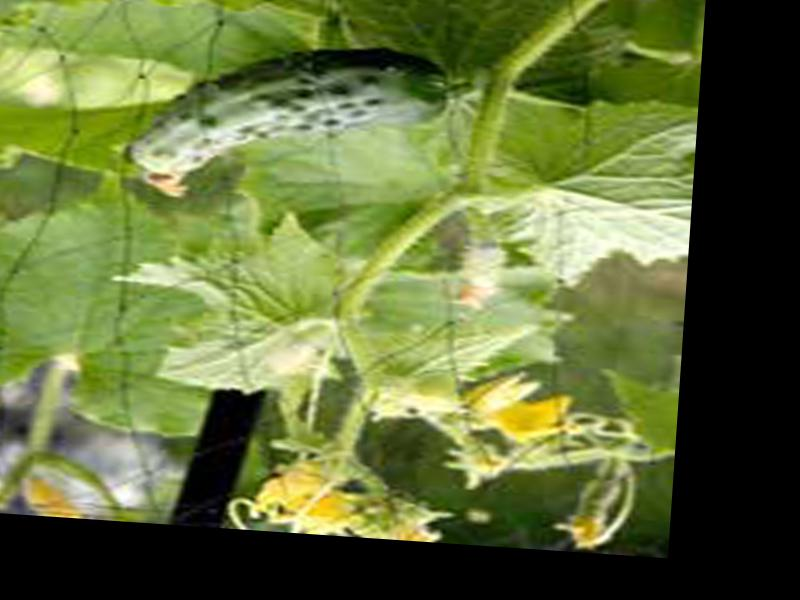Cucumber: (123, 33, 457, 216)
